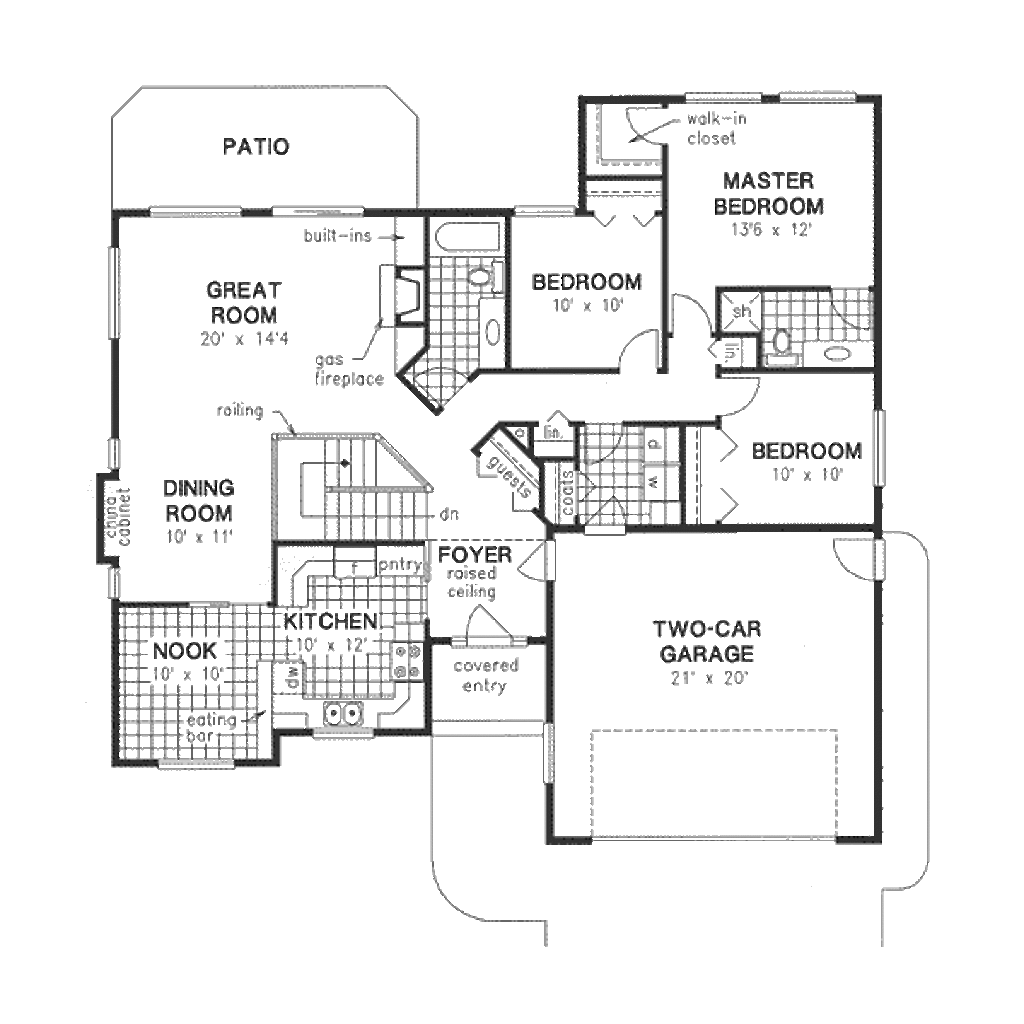door: (454, 593, 528, 653), (836, 525, 886, 592), (613, 320, 665, 382), (712, 366, 770, 419), (658, 287, 714, 337), (516, 526, 561, 585), (627, 96, 679, 147)
large_sink: (458, 259, 516, 299), (753, 320, 798, 370)
small_sink: (806, 337, 879, 373), (482, 299, 508, 365)
stairs: (263, 425, 448, 546)
tub: (424, 213, 504, 259)
twin_sink: (313, 695, 368, 733)
window: (142, 195, 247, 227), (103, 236, 127, 345), (530, 708, 563, 784), (183, 587, 242, 618), (676, 90, 779, 107), (781, 85, 868, 103), (103, 434, 125, 473)
